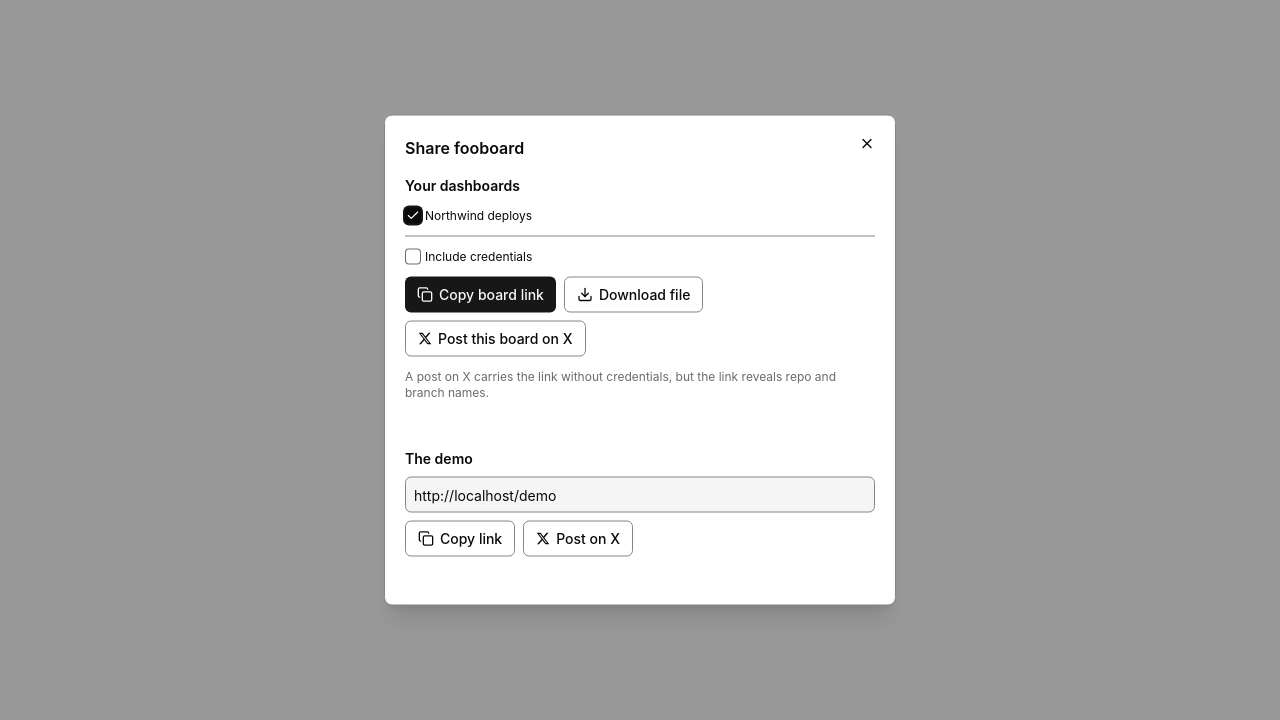
Scenario: sharing saved dashboards › downloads the share as a file
The image size is (1280, 720).
Click the button "Download file" at point(634, 294), box [564,276,703,312]
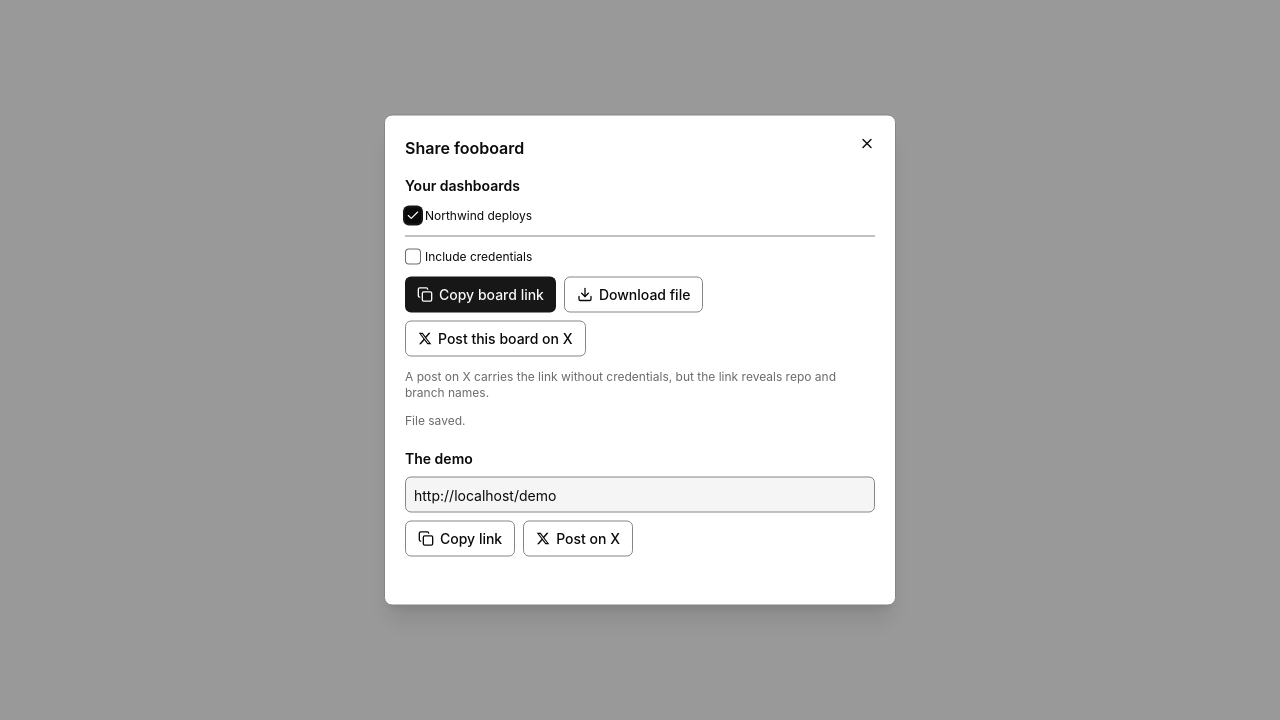
Now the message "File saved." is shown, box [405,412,466,428]
